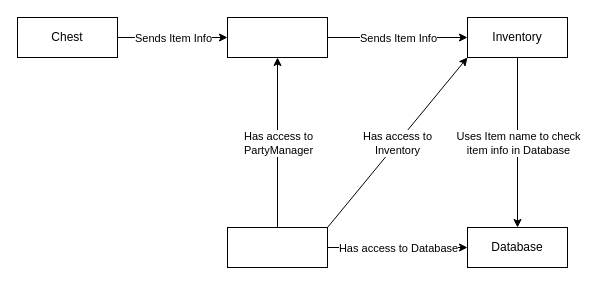
Some shapes in this 597 by 285 pixel diagram are drawn without their labels. Each missing label, with the centre of its shape:
Menu: the point at 277,247
PartyManager: the point at 277,37
